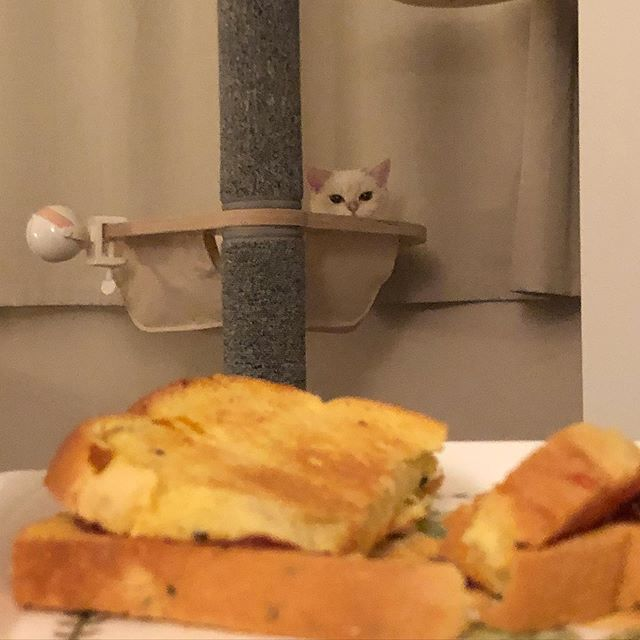cat: (299, 157, 404, 229)
